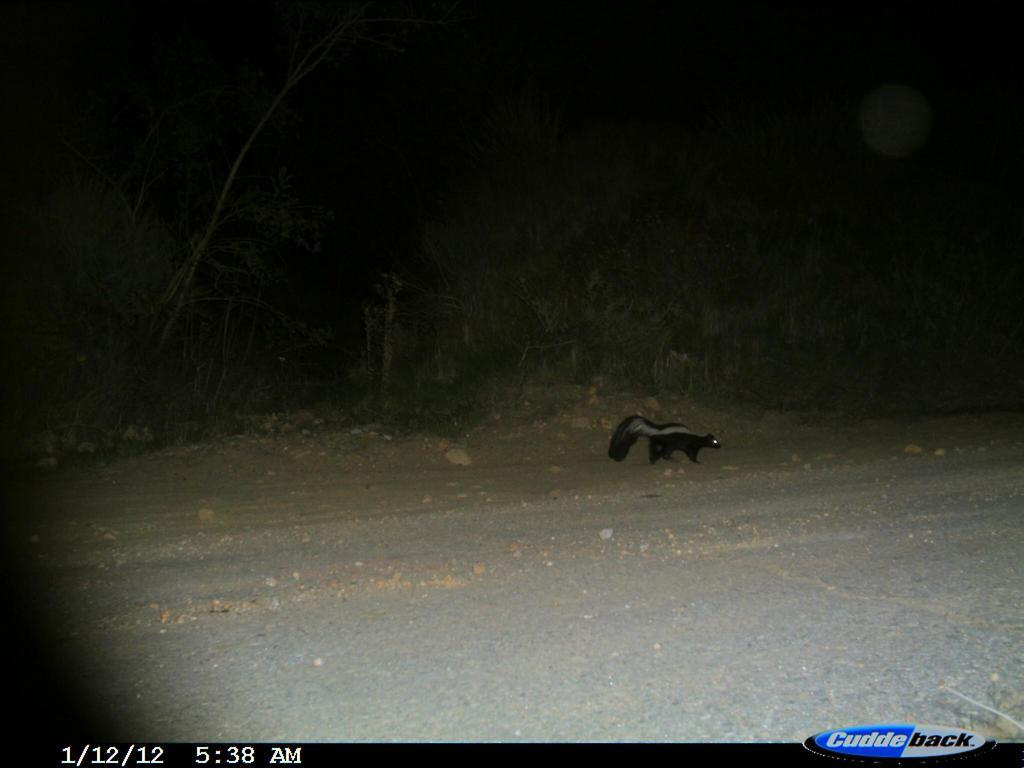skunk: (600, 409, 731, 481)
